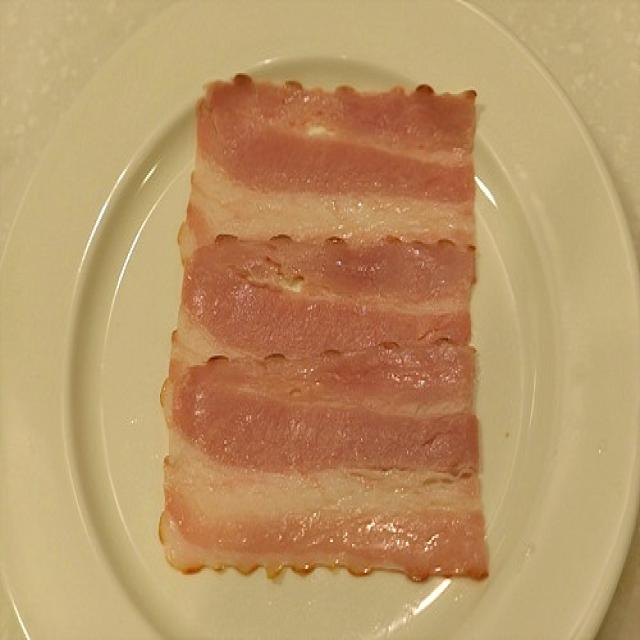Bacon Slice: (160, 75, 489, 580)
